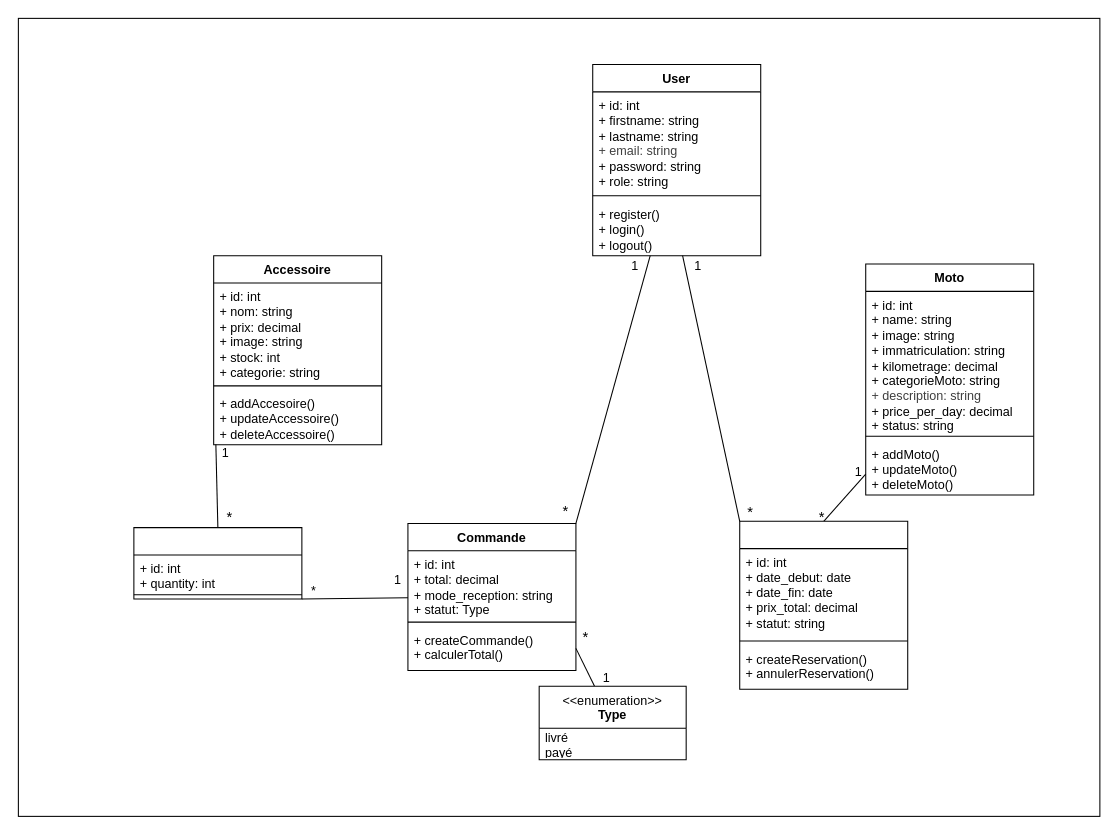
Image size: 1118x835. Some labels were removed from this diagram. Here are the shapes that lost their labels. From the top down, the box of each, then its label:
(133, 527, 302, 599): commande_accessoire
(739, 520, 908, 689): Location
